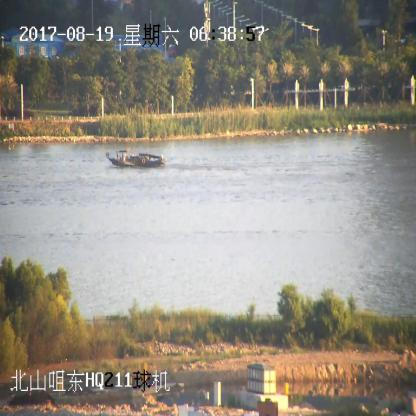Fishing Boat: (107, 149, 165, 170)
